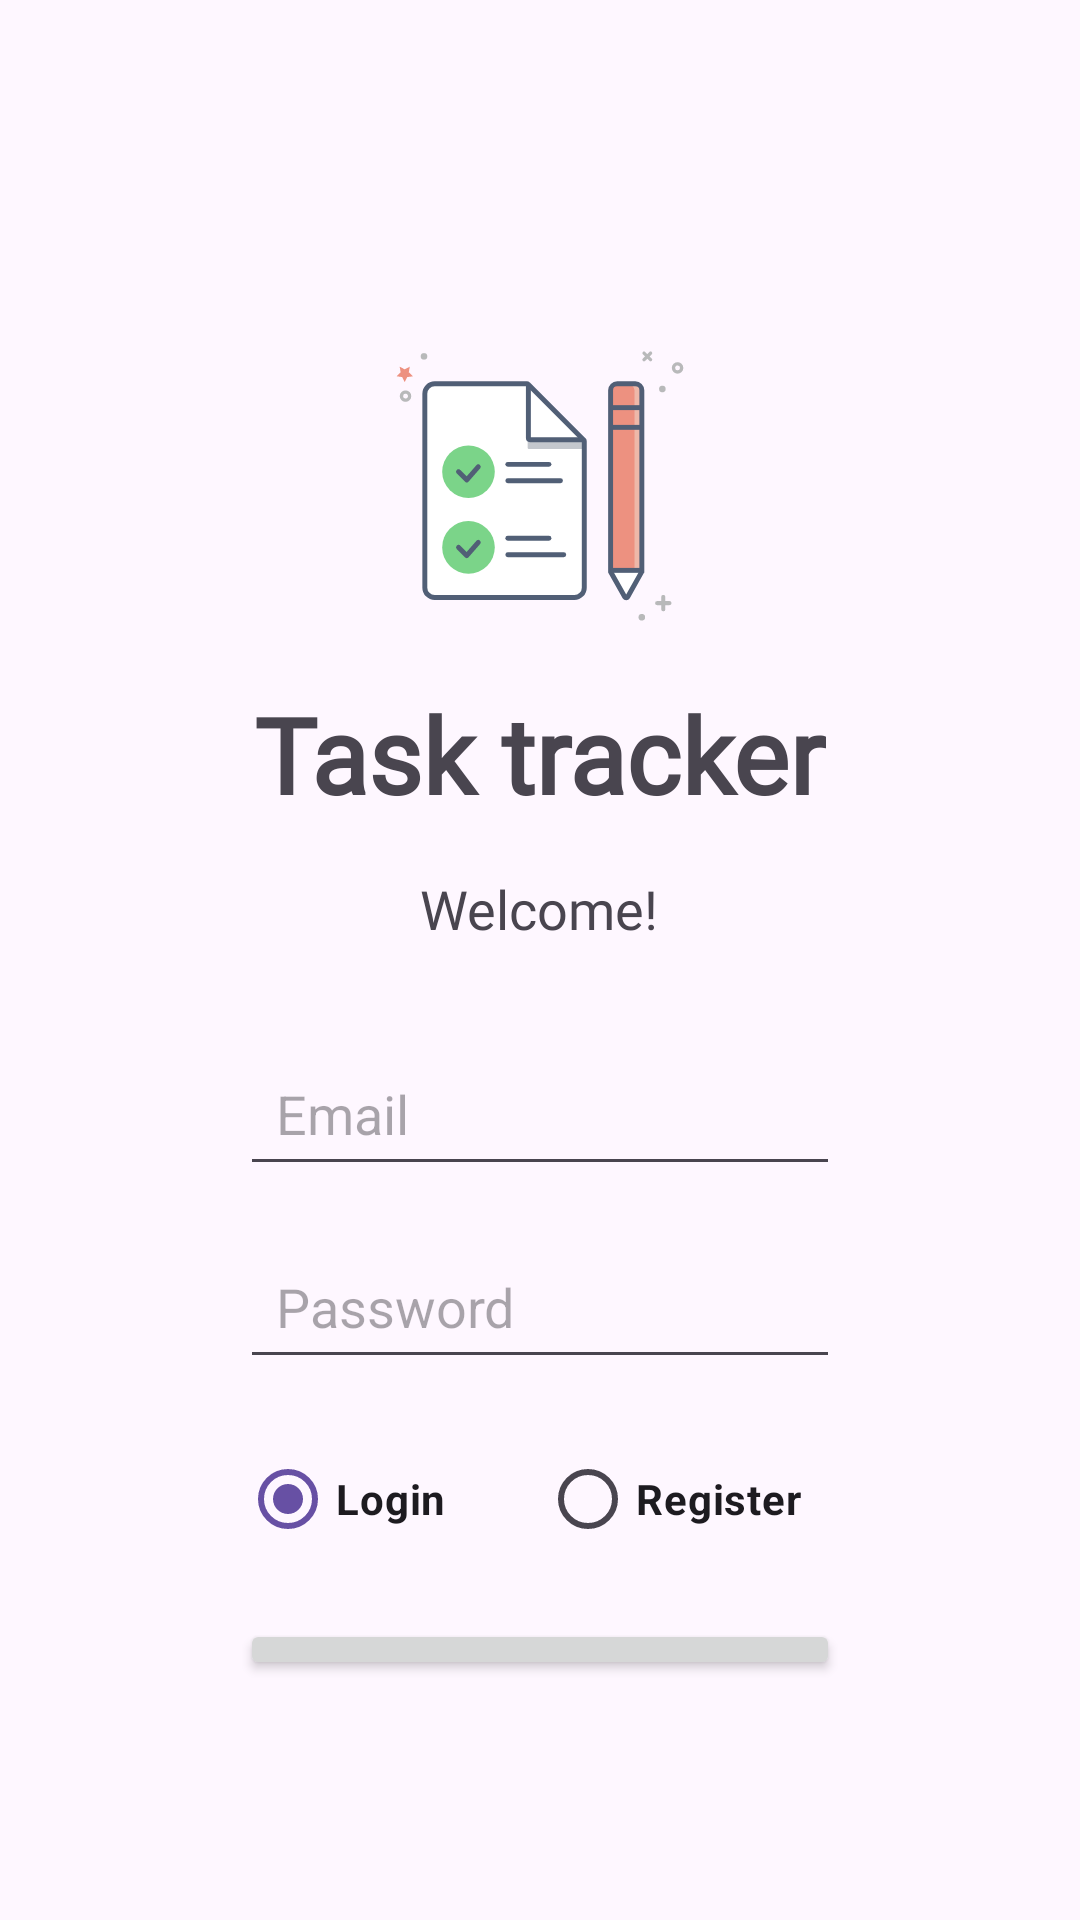

Named icons in this screenshot (1080 × 1920) and their centers, (x=x, y=y):
check form: (x=540, y=486)
